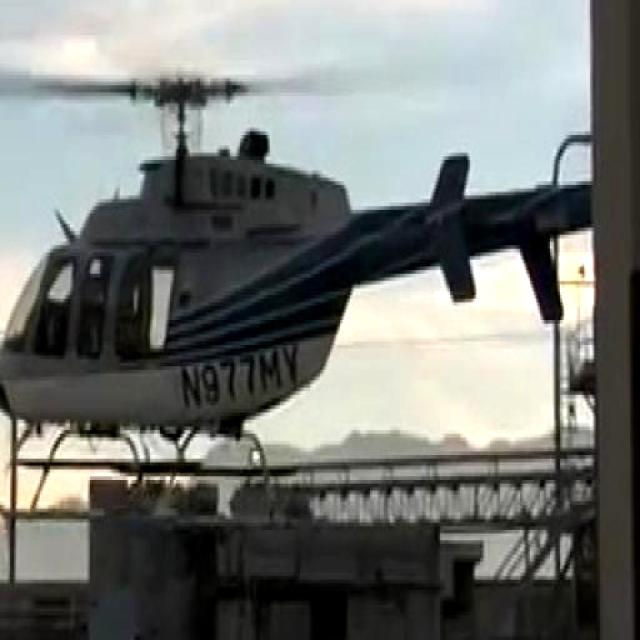drone: (0, 0, 598, 530)
